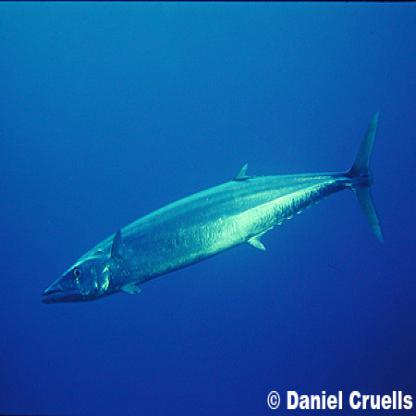Scombridae -Tunas-: (38, 104, 398, 320)
